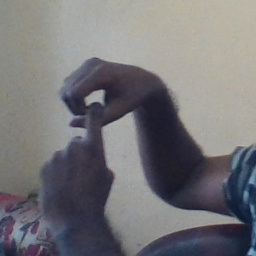Q: (33, 53, 157, 205)
